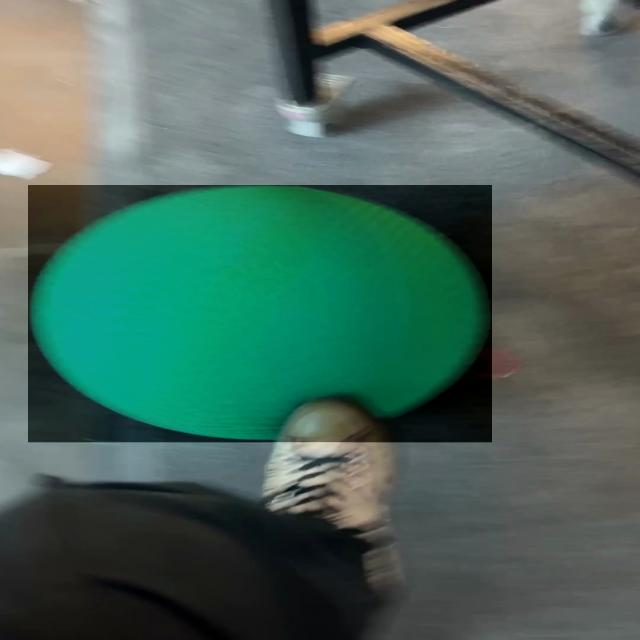Algae: (28, 185, 492, 444)
